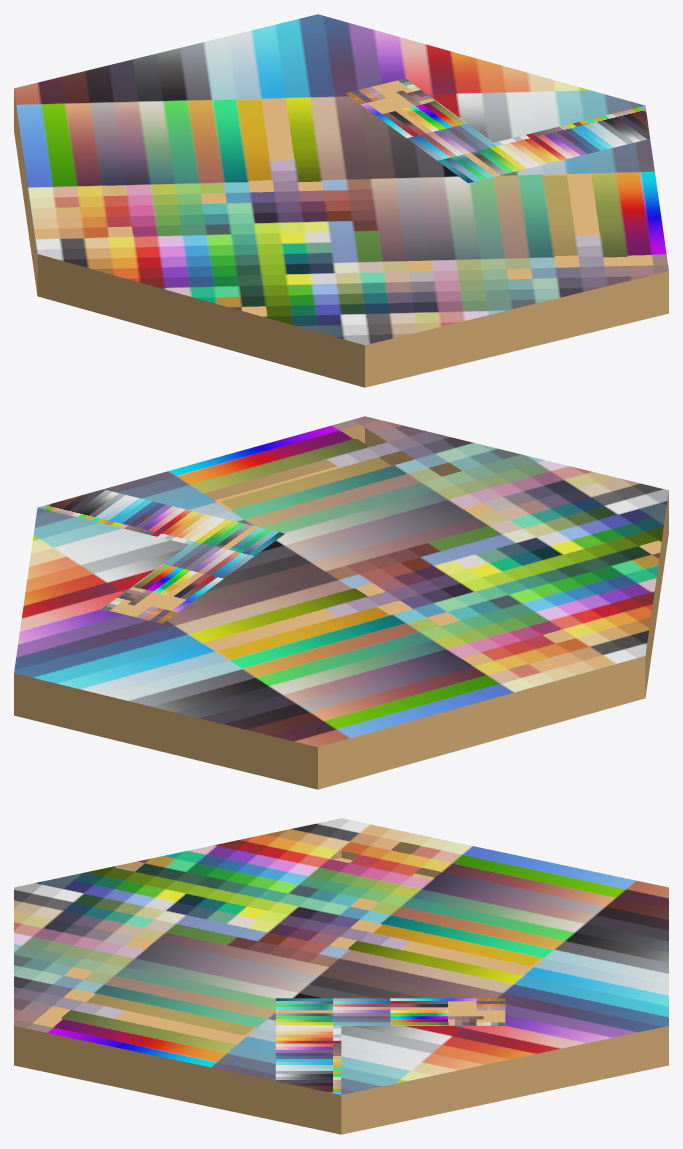
File: Village8.fbx
The picture shows the model from 3 angles, top to bottom: view 1: azimuth 30°, elevation 25°; view 2: azimuth 150°, elevation 25°; view 3: azimuth 270°, elevation 25°; orthographic projection. The views are drawn at different scales.
Parts seen in each view (by area): view 1: Village8; view 2: Village8; view 3: Village8.
Boxes of the visible parts, x1=… form: Village8: x1=14, y1=14, x2=668, y2=387; Village8: x1=14, y1=416, x2=668, y2=789; Village8: x1=14, y1=818, x2=668, y2=1134.
Size of the model in its own units: 1500 by 100 by 1500.
